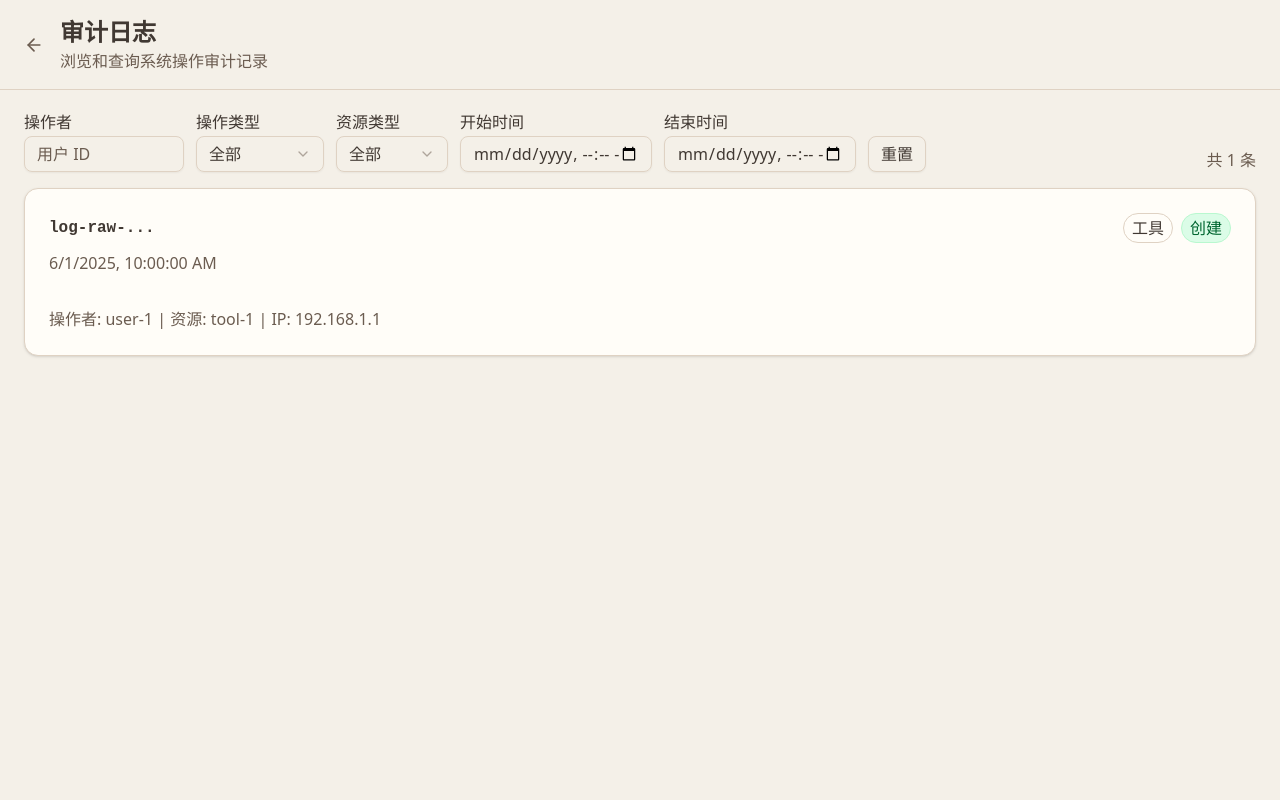
Scenario: AuditLogsPage › detail dialog shows raw detail when JSON parse fails
Expected: the text "log-raw-..." is shown, [49, 220, 155, 236]
Click the text "log-raw-..." at (640, 272), box [24, 188, 1256, 356]
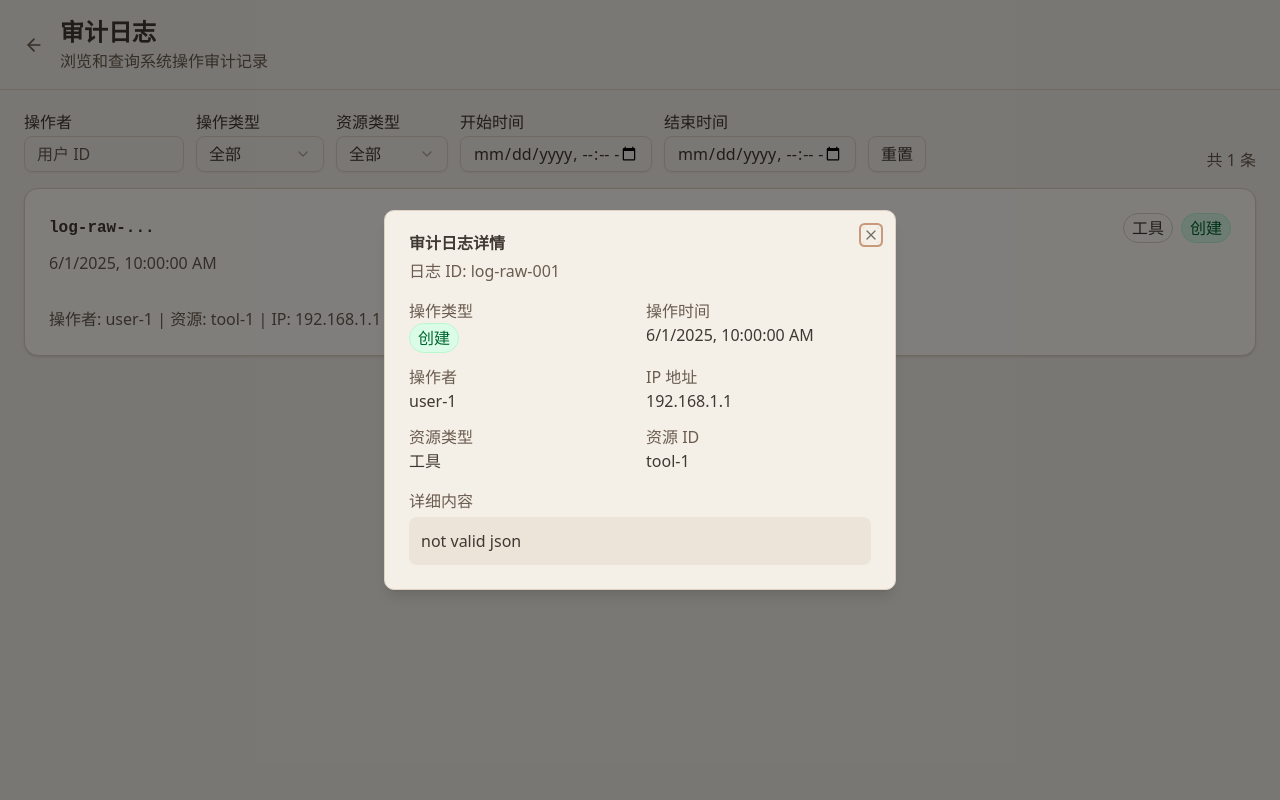
Expected: the text "not valid json" is shown, [409, 517, 871, 565]
